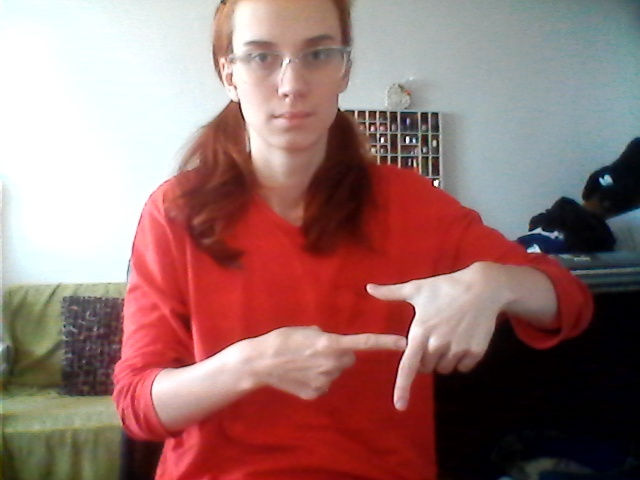f: (267, 263, 496, 414)
